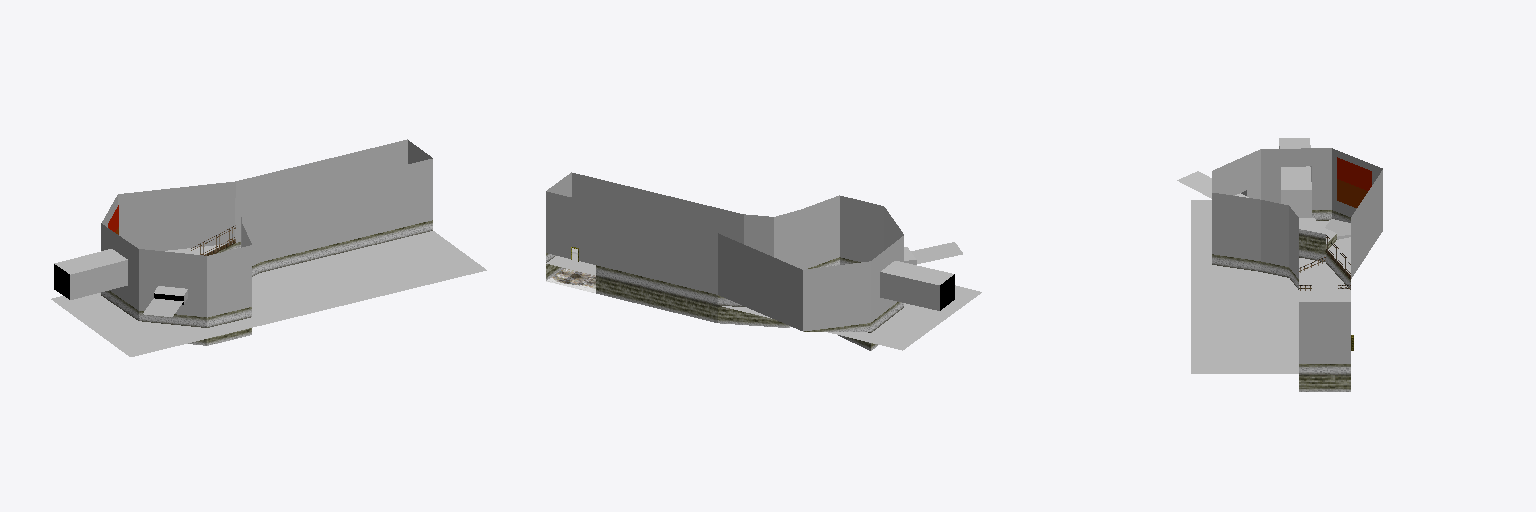
The picture shows the model from 3 angles: view 1: azimuth 30°, elevation 25°; view 2: azimuth 150°, elevation 25°; view 3: azimuth 270°, elevation 25°; orthographic projection.
Parts seen in each view (by area): view 1: Floor2#RoomA, Floor2#RoomA#Water; view 2: Floor2#RoomA, Floor2#RoomA#Water, Floor2#RoomA#Stone, Floor2#RoomA#Water.03; view 3: Floor2#RoomA, Floor2#RoomA#Water, Floor2#RoomA#Snow, Floor2#RoomA#Generic#NoCull.05, Floor2#RoomA#Water.01, Floor2#RoomA#Water.02, Floor2#RoomA#Generic#NoCull.06, Floor2#RoomA#Water.03.
Part boxes in pixels (x1,y1,x2,y2): Floor2#RoomA: (54, 139, 432, 345); Floor2#RoomA#Water: (51, 231, 486, 356); Floor2#RoomA: (546, 172, 954, 350); Floor2#RoomA#Water: (546, 256, 981, 350); Floor2#RoomA#Stone: (546, 268, 595, 292); Floor2#RoomA#Water.03: (911, 242, 962, 263); Floor2#RoomA: (1212, 138, 1382, 391); Floor2#RoomA#Water: (1191, 200, 1350, 373); Floor2#RoomA#Snow: (1299, 218, 1350, 274); Floor2#RoomA#Generic#NoCull.05: (1337, 157, 1371, 190); Floor2#RoomA#Water.01: (1281, 166, 1311, 189); Floor2#RoomA#Water.02: (1281, 190, 1311, 217); Floor2#RoomA#Generic#NoCull.06: (1337, 179, 1367, 207); Floor2#RoomA#Water.03: (1177, 171, 1248, 198).
Bounding box in the file's own units: 3055 × 704 × 1463.
Materials: 10 (4 with a texture image).